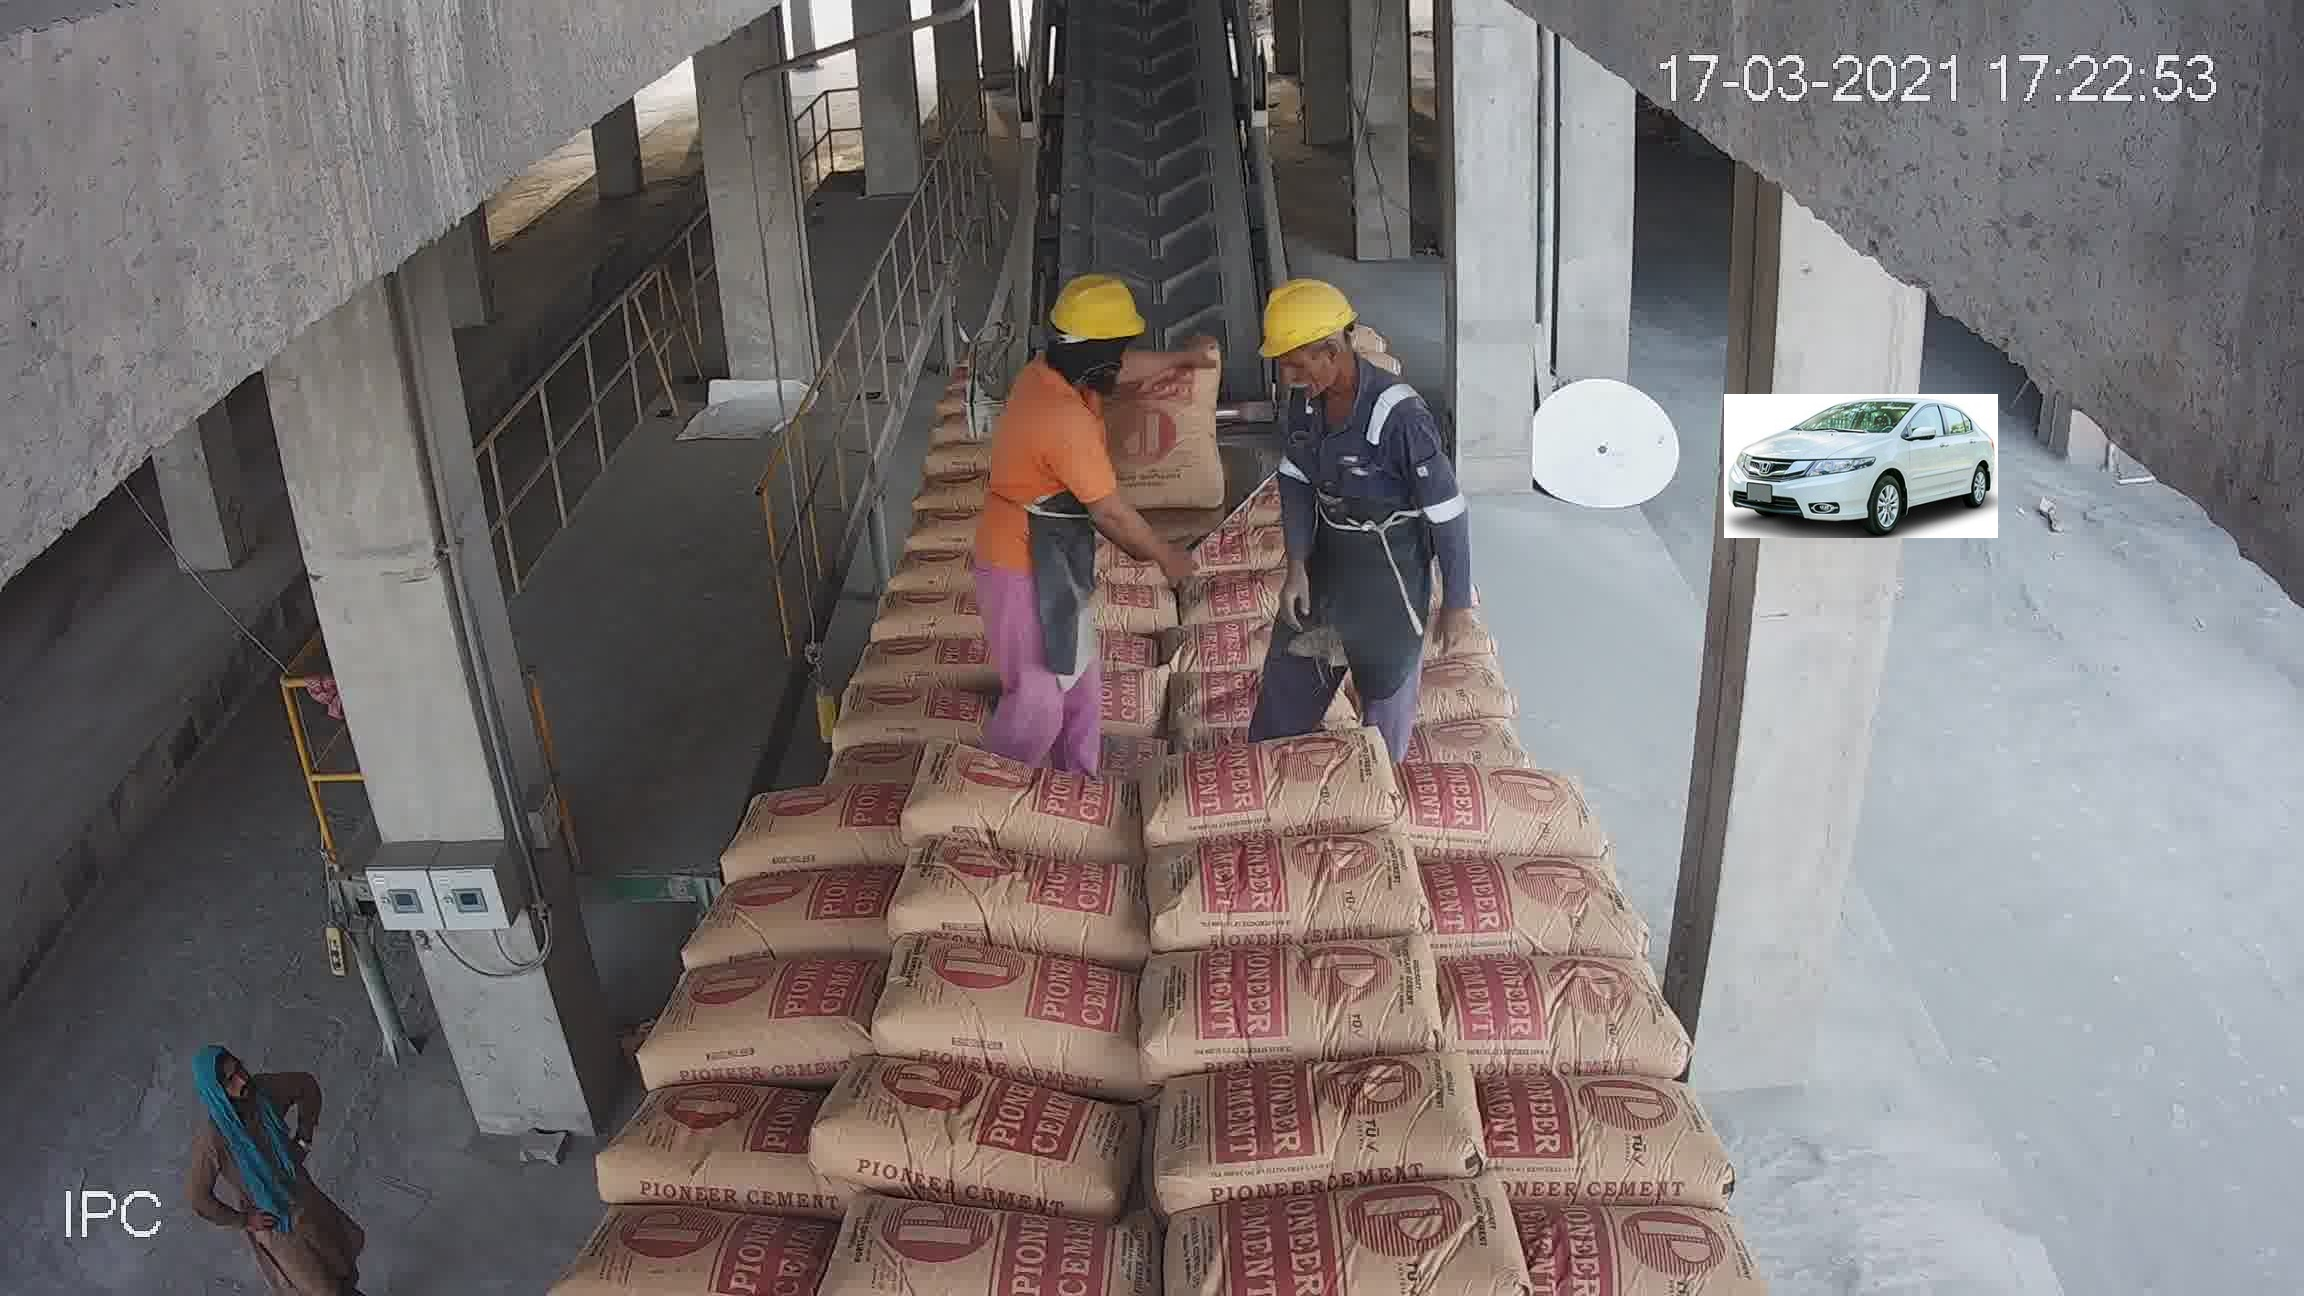bag: (1092, 152, 1222, 264)
bag_h: (1166, 1025, 1484, 1201), (1161, 1174, 1532, 1290), (1141, 934, 1445, 1073), (828, 1087, 1122, 1215), (1152, 821, 1421, 957), (888, 953, 1166, 1084), (636, 961, 907, 1079), (593, 1071, 840, 1199), (1150, 731, 1372, 867), (1446, 943, 1677, 1071), (1492, 1063, 1719, 1193), (1491, 1192, 1760, 1296), (685, 764, 897, 891), (1418, 842, 1643, 959), (570, 1204, 840, 1296), (916, 847, 1149, 953), (851, 1203, 1130, 1290), (873, 771, 1161, 855), (1362, 763, 1593, 866), (1155, 657, 1380, 758), (676, 869, 904, 968), (1176, 578, 1380, 680), (934, 682, 1149, 763), (1374, 680, 1559, 772), (748, 703, 929, 786), (972, 612, 1150, 696), (779, 635, 965, 714), (1386, 609, 1525, 696), (1057, 483, 1180, 544), (859, 584, 978, 638), (1081, 538, 1176, 579), (900, 533, 968, 587), (1086, 581, 1165, 619)
belt: (1022, 14, 1253, 411)
